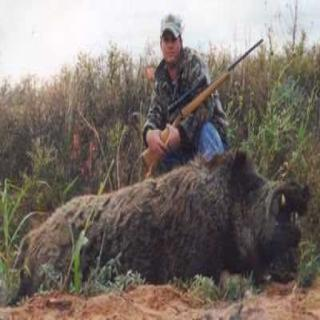Pig: (14, 161, 310, 315)
